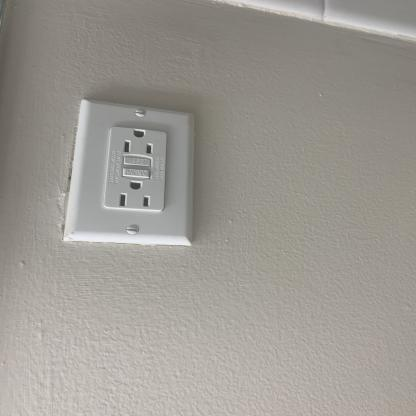OUTLET: (62, 106, 197, 242)
